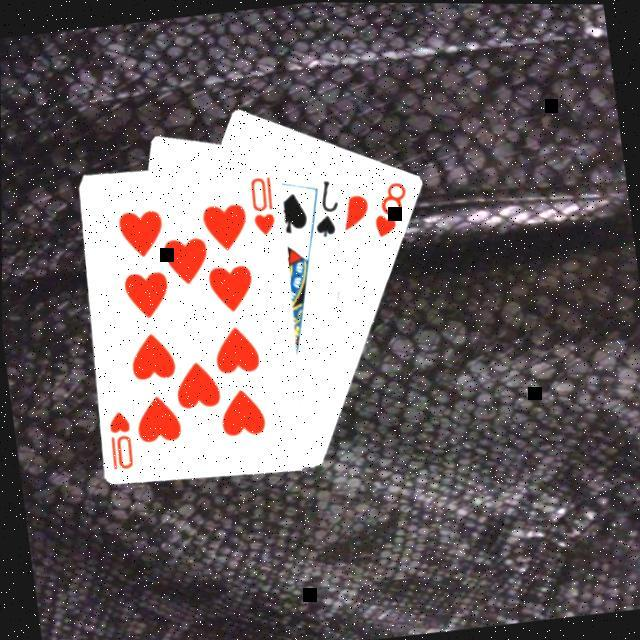10H: (104, 406, 140, 473), (246, 172, 282, 238)
8H: (368, 176, 417, 242)
JS: (308, 176, 347, 240)
